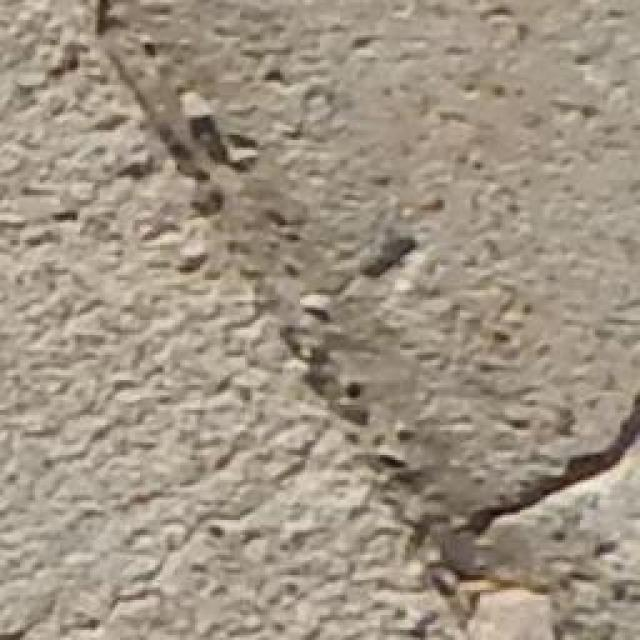concrete-crack: (75, 0, 568, 640), (436, 382, 640, 547)
